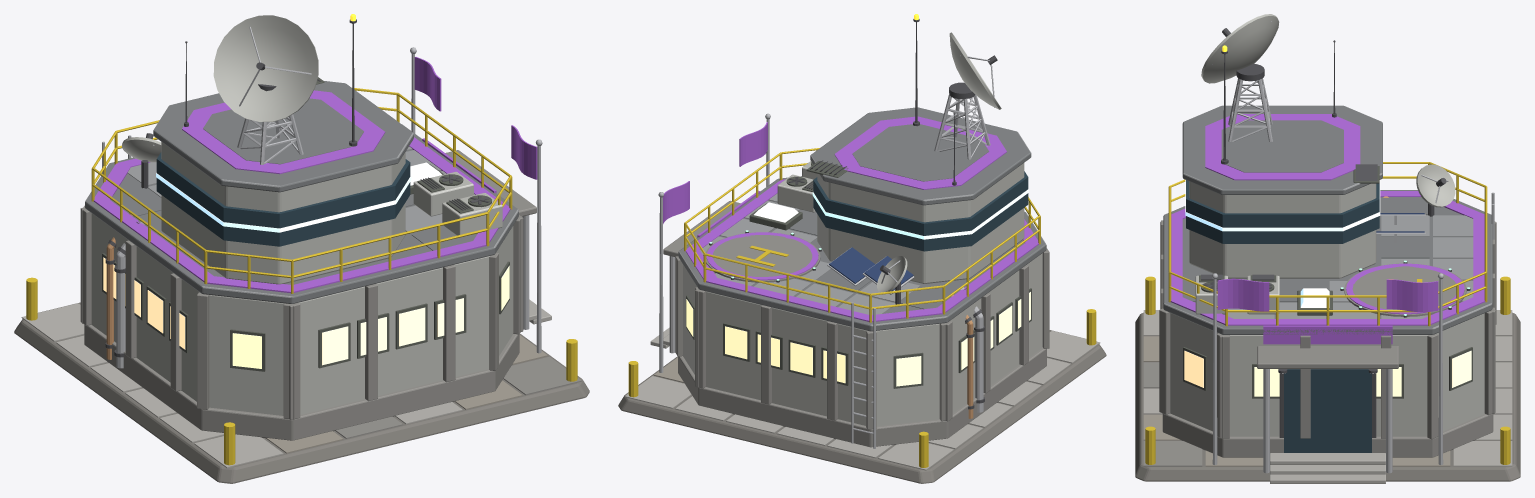
Rendered from command_center_purple.glb.
The picture shows the model from 3 angles, left to right: view 1: azimuth 30°, elevation 25°; view 2: azimuth 150°, elevation 25°; view 3: azimuth 270°, elevation 25°; orthographic projection. The views are drawn at different scales.
Parts seen in each view (by area): view 1: Body; view 2: Body; view 3: Body.
Boxes of the visible parts, <box> form: Body: <box>14,14,589,483</box>; Body: <box>618,14,1106,483</box>; Body: <box>1135,14,1520,483</box>.
Size of the model in its own units: 6.49 by 6.04 by 5.98.
1 material, 1 textured.
